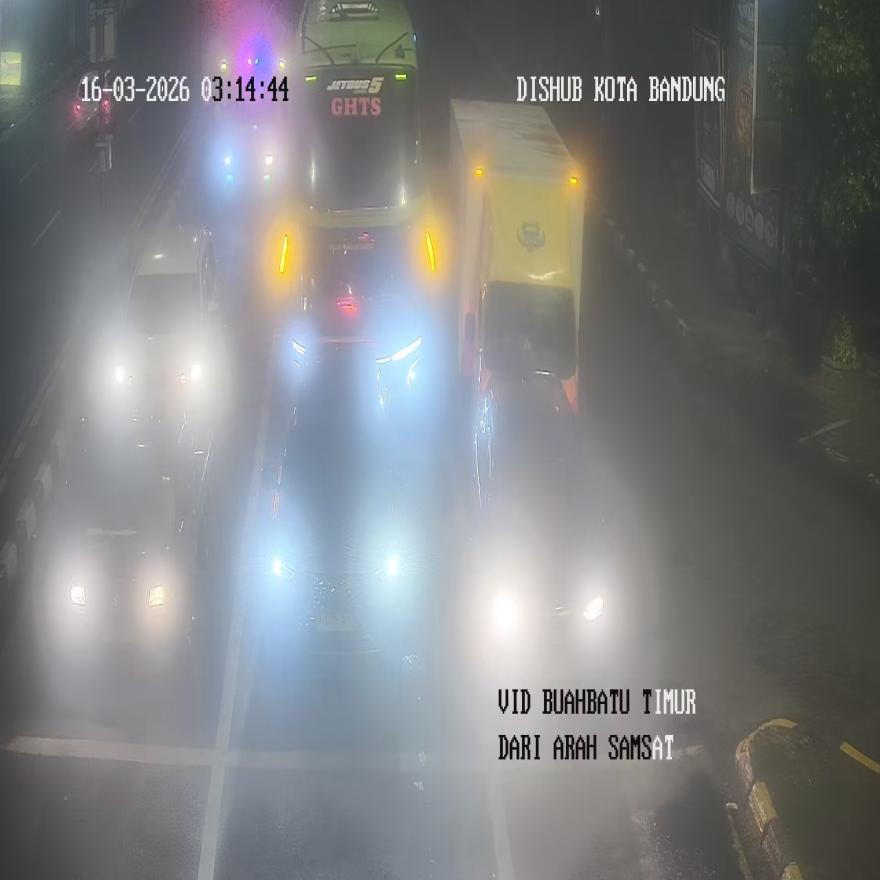Mobil: (42, 397, 207, 684), (464, 388, 620, 677), (263, 377, 404, 684), (118, 234, 212, 405)
Truk ringan: (456, 102, 599, 405)
bus: (259, 31, 440, 396)
